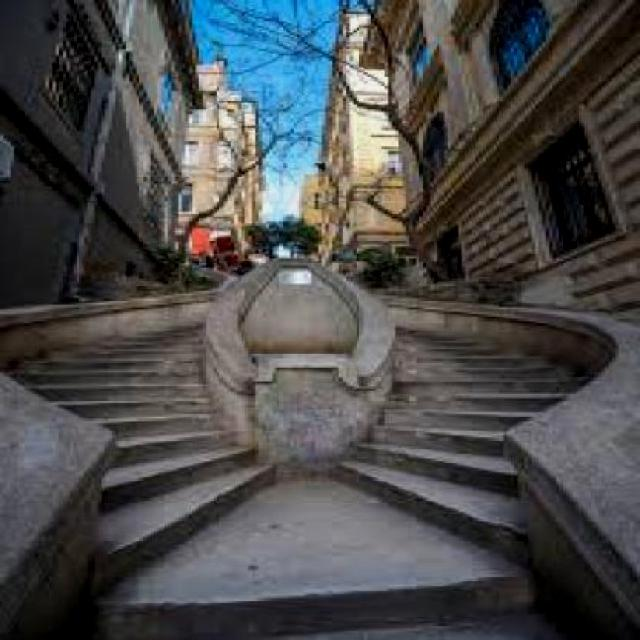stair: (4, 266, 633, 628)
